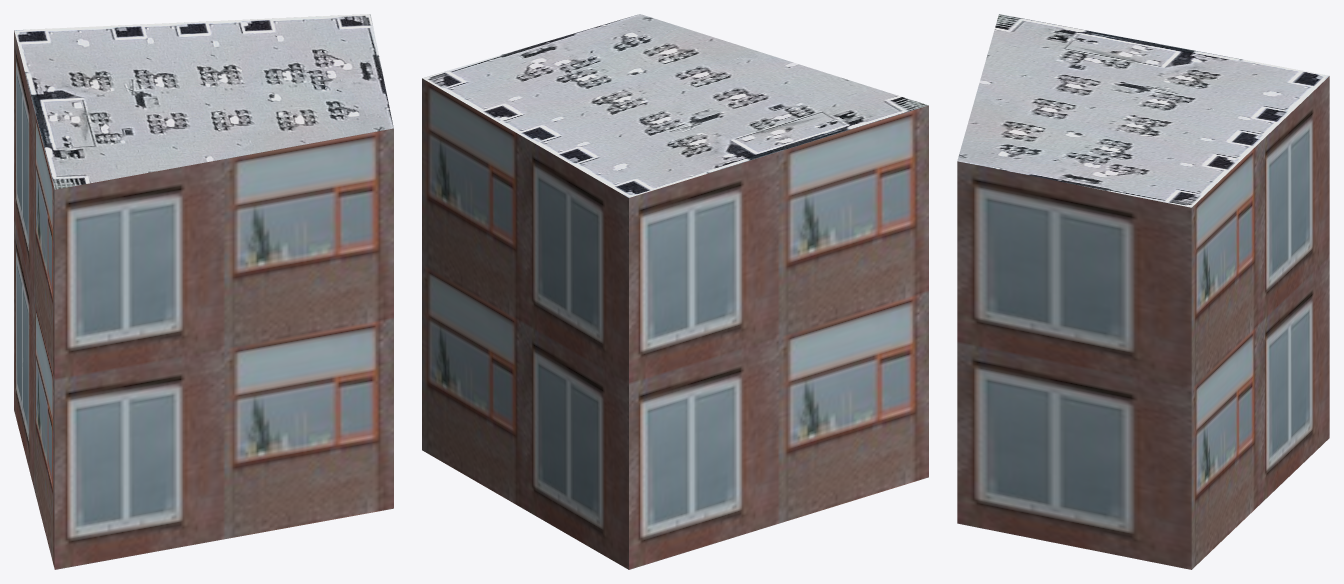
File: ResTex__4063.fbx
3 views of the same model, side by side, from view 1: azimuth 30°, elevation 25°; view 2: azimuth 150°, elevation 25°; view 3: azimuth 270°, elevation 25° (orthographic). The views are drawn at different scales.
Visible parts, largest first — view 1: CityEngineMaterial_19_m, CityEngineMaterial_4_m; view 2: CityEngineMaterial_19_m, CityEngineMaterial_4_m; view 3: CityEngineMaterial_19_m, CityEngineMaterial_4_m.
Boxes of the visible parts, <box> form: CityEngineMaterial_19_m: <box>14,30,393,569</box>; CityEngineMaterial_4_m: <box>14,14,393,189</box>; CityEngineMaterial_19_m: <box>422,78,928,569</box>; CityEngineMaterial_4_m: <box>422,14,928,197</box>; CityEngineMaterial_19_m: <box>957,76,1329,569</box>; CityEngineMaterial_4_m: <box>957,14,1329,207</box>.
Bounding box in the file's own units: 6.89 × 6 × 5.6.
Materials: 2 (2 with a texture image).
